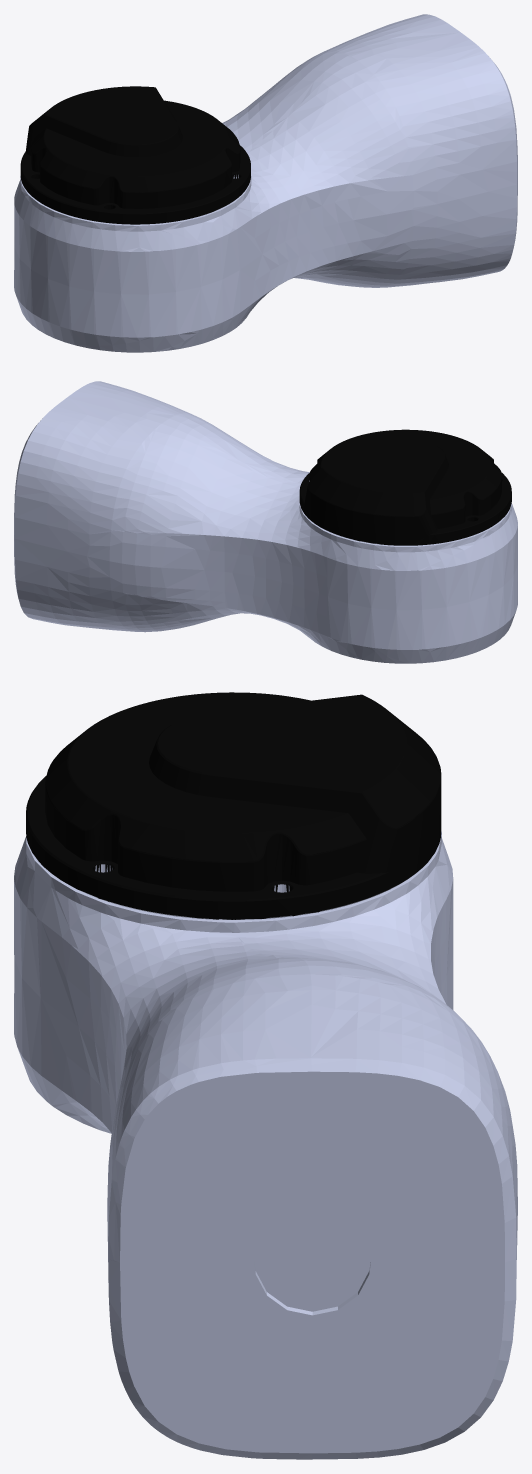
The model's file is right_elbow_link.dae.
The picture shows the model from 3 angles, top to bottom: view 1: azimuth 30°, elevation 25°; view 2: azimuth 150°, elevation 25°; view 3: azimuth 270°, elevation 25°; orthographic projection. The views are drawn at different scales.
Visible parts, largest first — view 1: right_elbow_link; view 2: right_elbow_link; view 3: right_elbow_link.
Part boxes in pixels (x1=…): right_elbow_link: x1=14, y1=14, x2=517, y2=352; right_elbow_link: x1=14, y1=381, x2=517, y2=663; right_elbow_link: x1=14, y1=692, x2=517, y2=1459.
Size of the model in its own units: 0.1683 by 0.0805 by 0.0893.
